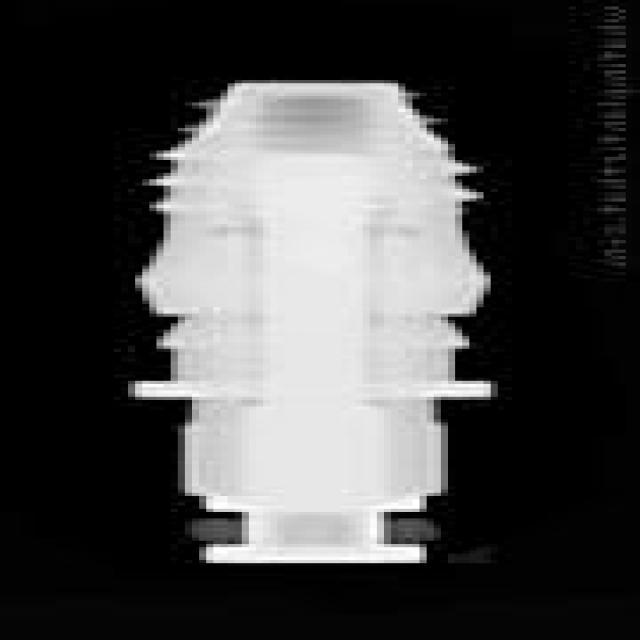Titan Implant Implant: (128, 86, 491, 563)
